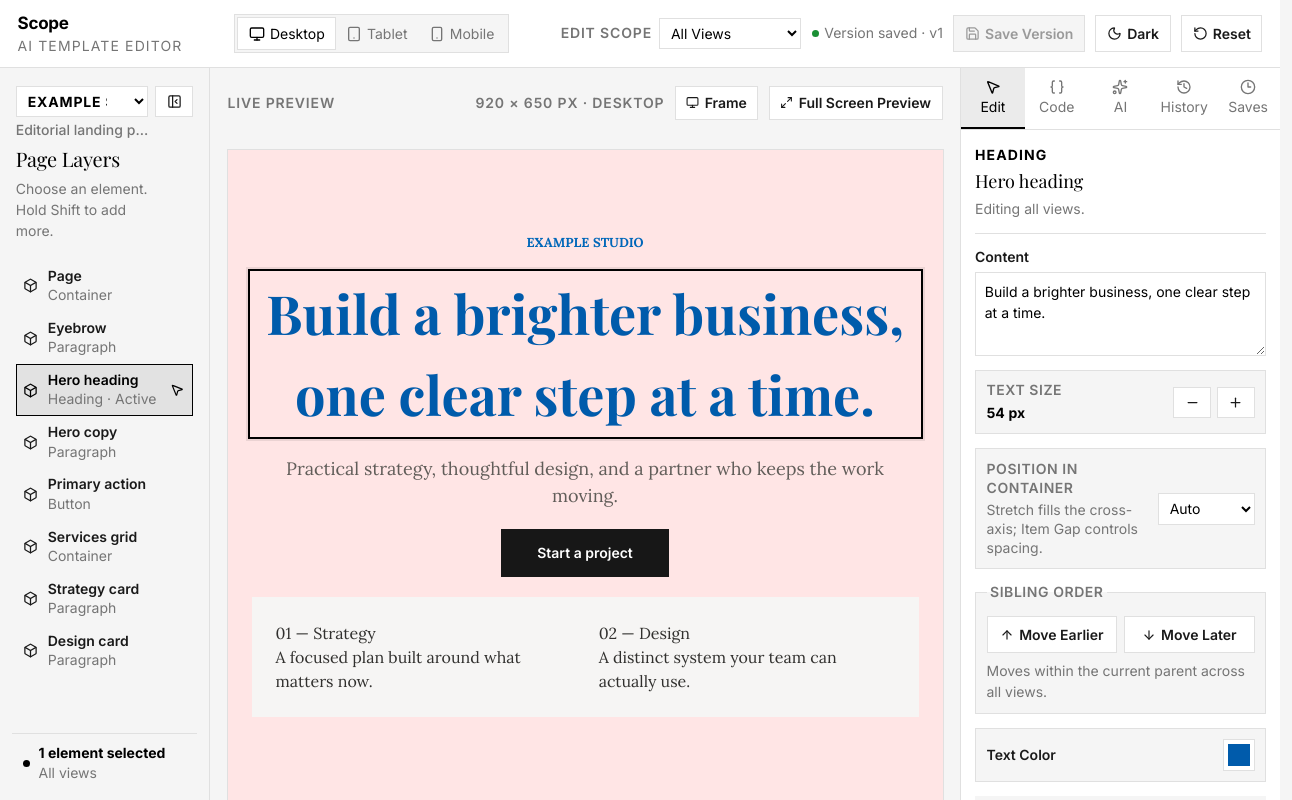
Test case: closes and persists Page Layers without changing the template version
Click the button named "Hide Page Layers" at (174, 101), box [155,86,193,116]
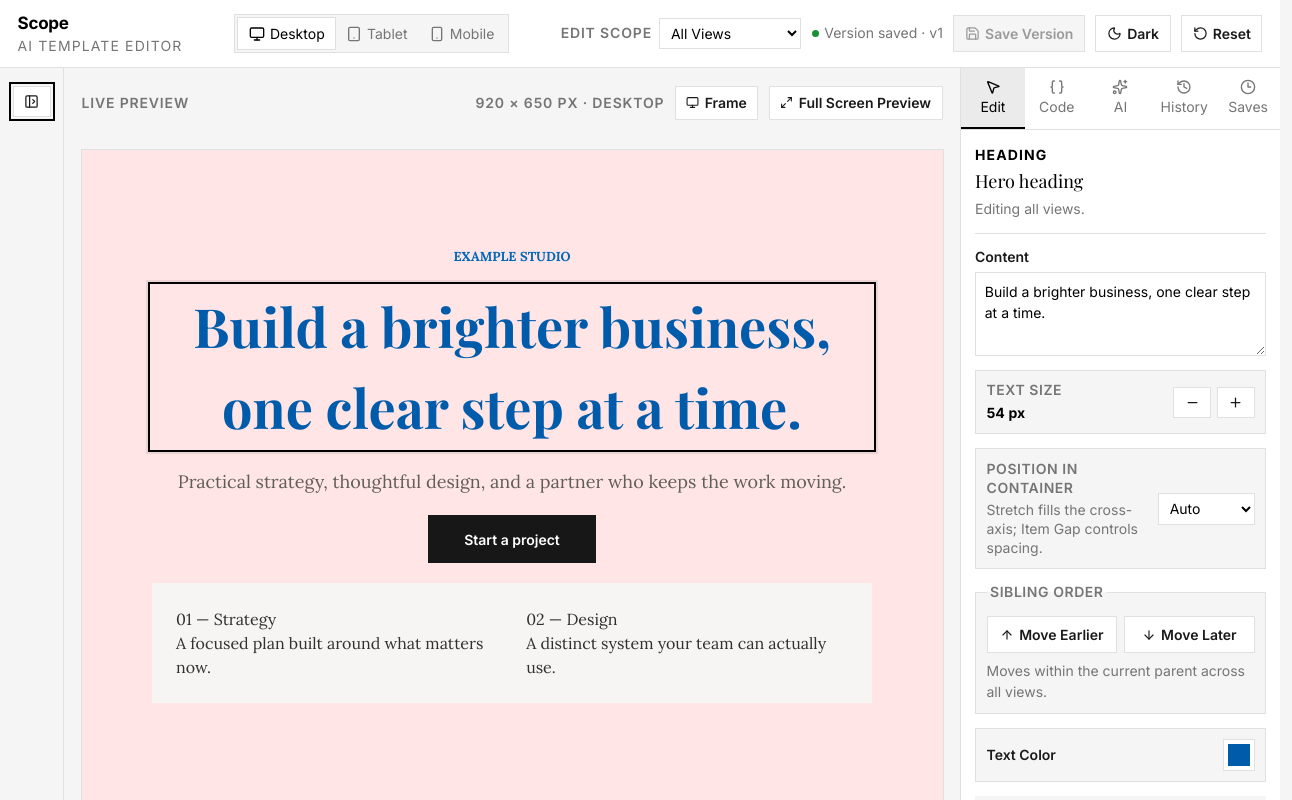
Expected: the element named "Template layers" is shown, [0,68,64,799]
Result: the heading "Page Layers" is gone
Result: the button named "Show Page Layers" is collapsed at [12,86,50,116]
